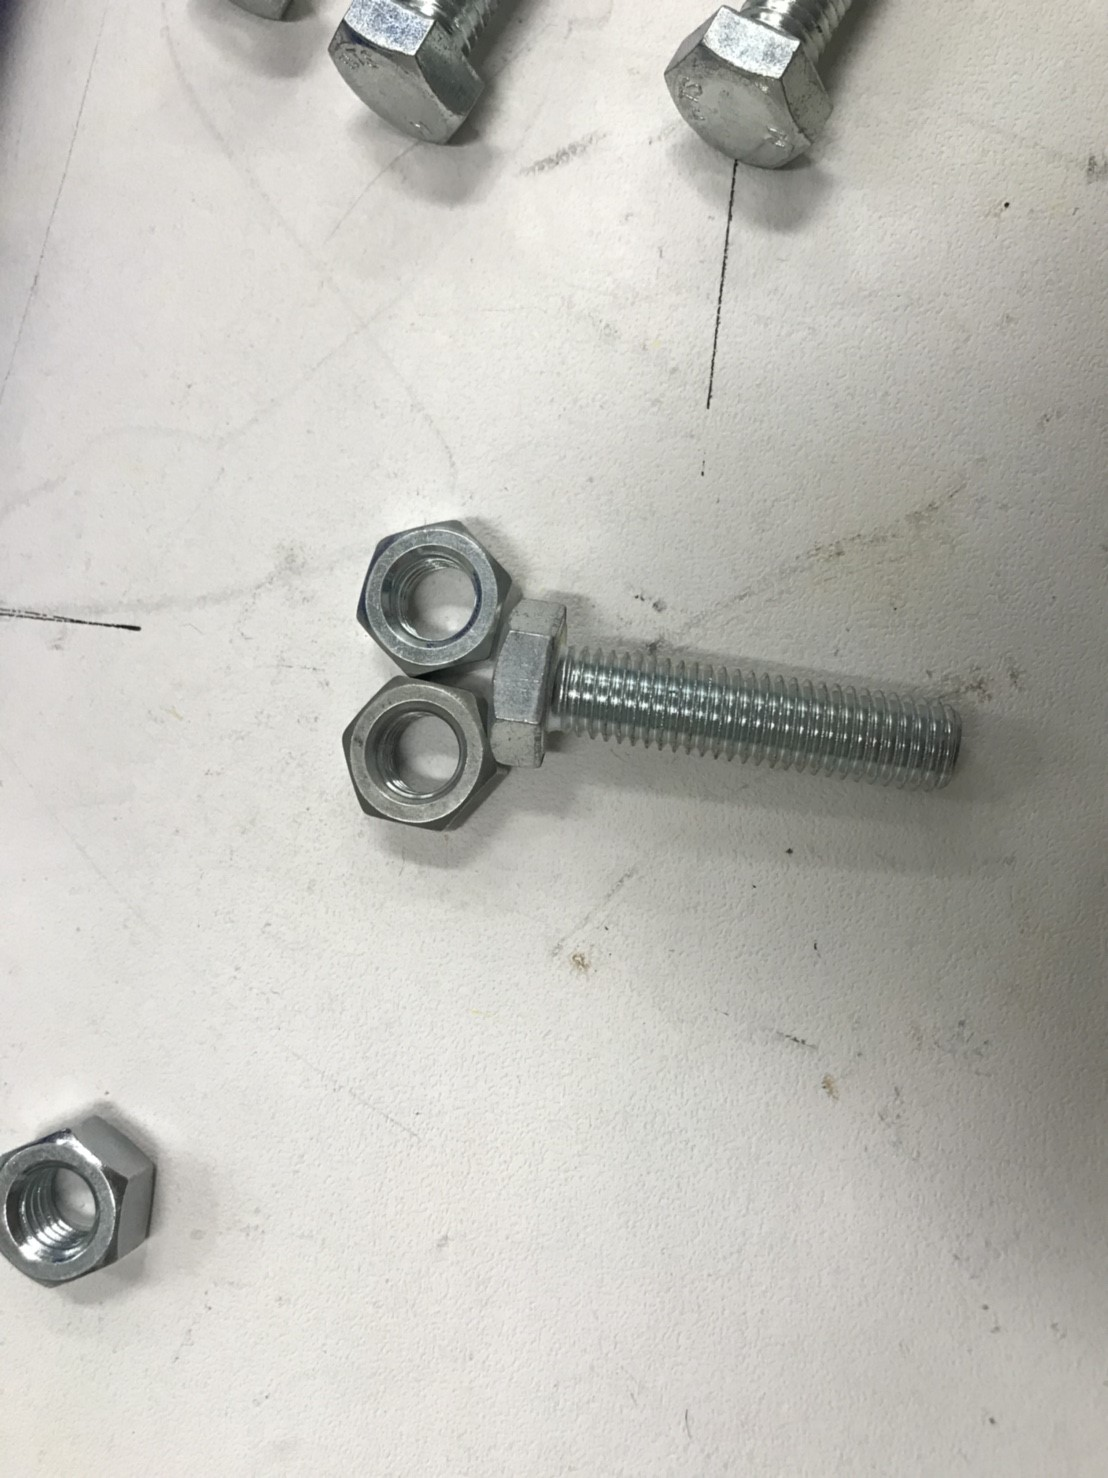nut: (1, 1102, 187, 1295), (331, 506, 514, 676), (325, 683, 511, 836)
screw: (493, 591, 976, 798)
